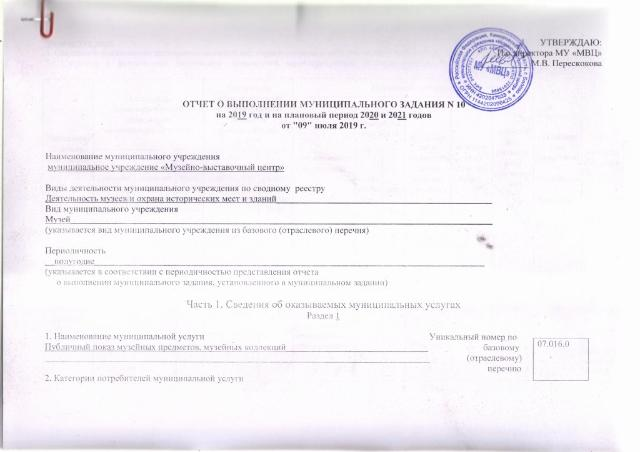stamp: (450, 27, 532, 110)
